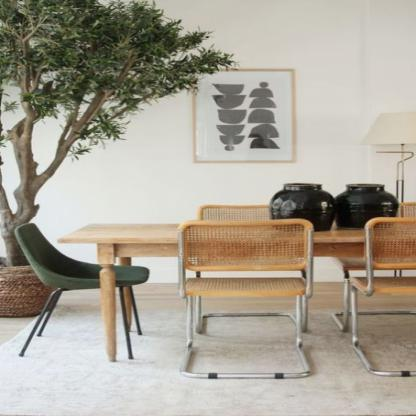chair: (167, 219, 320, 380), (9, 214, 152, 368), (192, 202, 312, 339), (335, 215, 416, 378)
light: (359, 102, 416, 217)
table: (57, 208, 416, 364)
